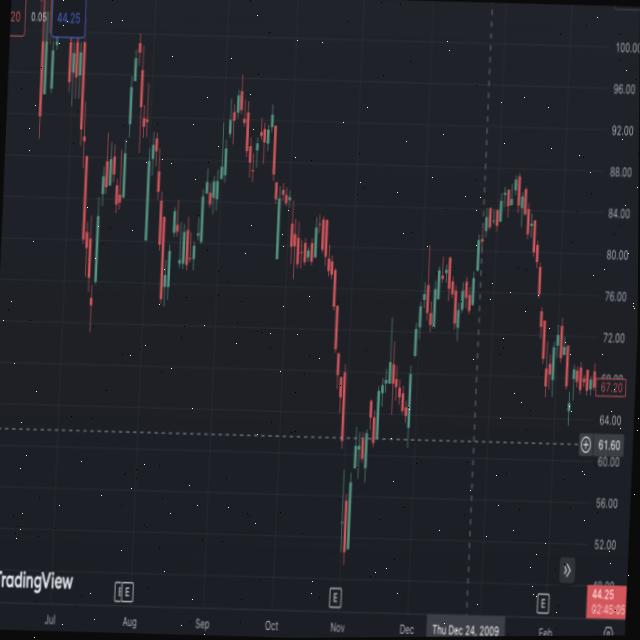Gap Down: (334, 358, 354, 575), (559, 343, 576, 439), (534, 257, 549, 340)
Gap Up: (402, 312, 422, 445), (119, 71, 138, 202), (164, 202, 179, 312), (221, 93, 235, 192)
